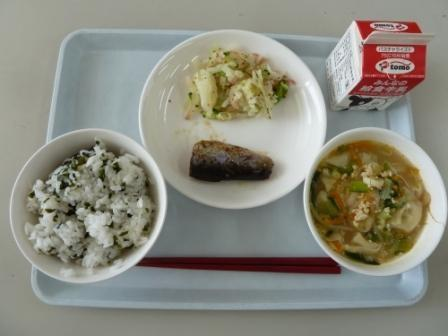Fish: (177, 41, 292, 124), (183, 130, 284, 196)
Milk: (327, 12, 435, 116)
Rice: (14, 136, 164, 274)
Soups: (307, 126, 447, 263)
